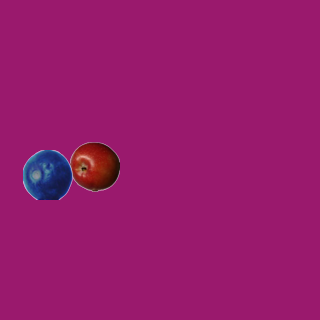Apple Braeburn: (69, 141, 119, 191)
Huckleberry: (22, 149, 72, 199)
